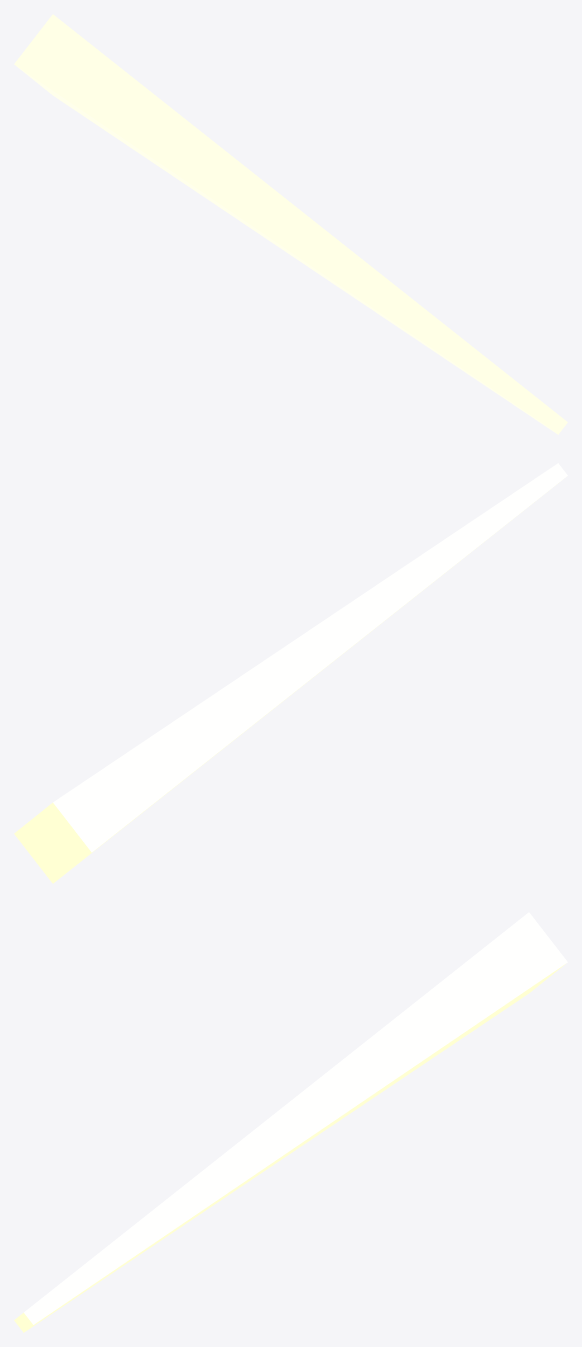
File: Proj_AegisTracer.fbx
3 renders of one model, top to bottom at view 1: azimuth 30°, elevation 25°; view 2: azimuth 150°, elevation 25°; view 3: azimuth 330°, elevation 25°, orthographic.
Visible parts, largest first — view 1: Tracer_Glow; view 2: Tracer_Glow; view 3: Tracer_Glow.
Part boxes in pixels (box(x1,y1,x2,y2)): Tracer_Glow: box(14, 14, 567, 434); Tracer_Glow: box(14, 463, 567, 883); Tracer_Glow: box(14, 912, 567, 1332).
Size of the model in its own units: 0.032 by 0.032 by 0.36.
